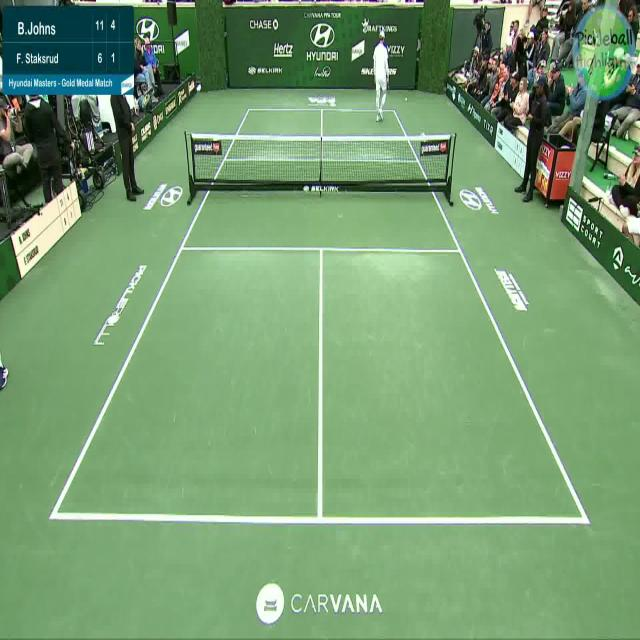Court: (52, 108, 587, 522)
ball: (403, 93, 409, 108)
